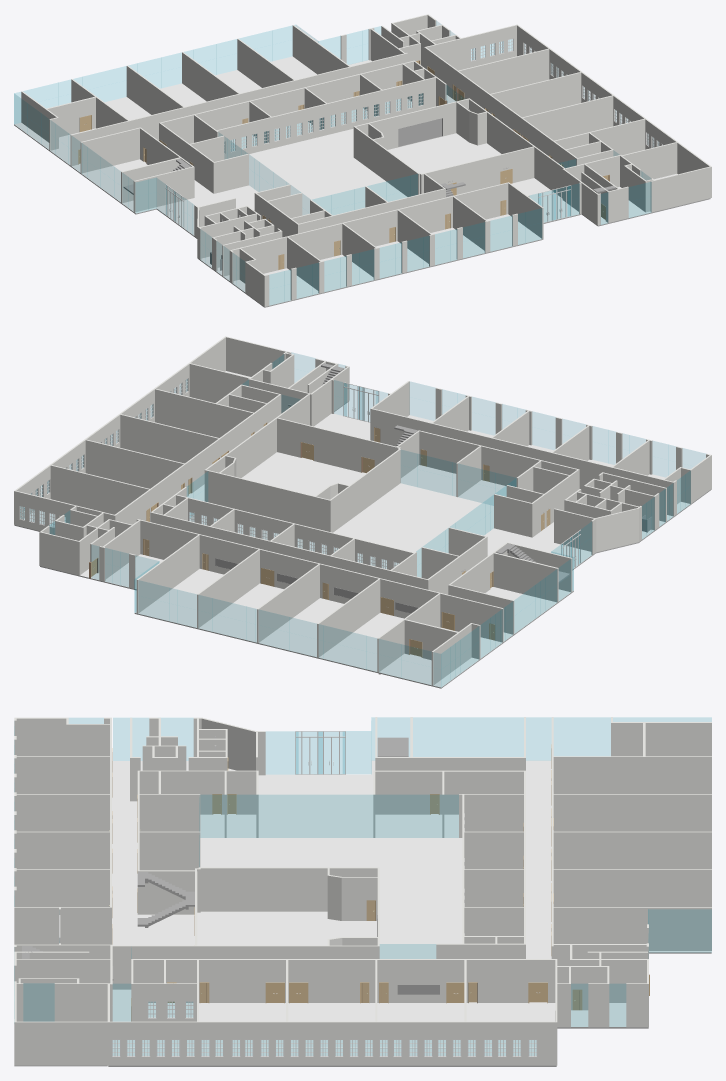
The model's file is 1楼墙体.gltf.
3 views of the same model, one above another, from view 1: azimuth 30°, elevation 25°; view 2: azimuth 150°, elevation 25°; view 3: azimuth 270°, elevation 25° (orthographic). The views are drawn at different scales.
Parts seen in each view (by area): view 1: 常规 140 - 20+120 [828984] (×2), 常规 - 200mm [791787], 常规 - 200mm [367109], 常规 - 200mm [432395], 常规 - 200mm [787339], 常规 - 200mm [435478], 常规 - 200mm [361772], 常规 - 200mm [360479], 常规 - 200mm [360535], 常规 - 200mm [360590], 常规 - 200mm [425923], 常规 - 200mm [362324] (+43 smaller); view 2: 常规 140 - 20+120 [828984] (×2), 常规 - 200mm [432395], 常规 - 200mm [362213], 常规 - 200mm [435478], 常规 - 200mm [787339], 常规 - 200mm [791787], 常规 - 200mm [361772], 常规 - 200mm [361418], 常规 - 200mm [367109], 常规 - 200mm [360590], 常规 - 200mm [360535], 常规 - 200mm [360479] (+46 smaller); view 3: 常规 140 - 20+120 [828984] (×2), 常规 - 200mm [787339], 常规 - 200mm [435478], 常规 - 200mm [356932], 常规 - 200mm [362324], 常规 - 200mm [356723], 常规 - 200mm [356034], 常规 - 200mm [356652], 常规 - 200mm [356786], 常规 - 200mm [366916], 常规 - 200mm [354483], 常规 - 200mm [353675] (+36 smaller).
Boxes of the visible parts, bbox=[...] form: 常规 140 - 20+120 [828984] (×2): bbox=[14, 56, 655, 307]; 常规 - 200mm [791787]: bbox=[217, 77, 435, 159]; 常规 - 200mm [367109]: bbox=[160, 60, 414, 143]; 常规 - 200mm [432395]: bbox=[70, 53, 407, 166]; 常规 - 200mm [787339]: bbox=[516, 24, 711, 197]; 常规 - 200mm [435478]: bbox=[425, 47, 578, 168]; 常规 - 200mm [361772]: bbox=[425, 146, 534, 194]; 常规 - 200mm [360479]: bbox=[522, 95, 613, 140]; 常规 - 200mm [360535]: bbox=[490, 72, 581, 117]; 常规 - 200mm [360590]: bbox=[458, 48, 549, 93]; 常规 - 200mm [425923]: bbox=[398, 182, 508, 232]; 常规 - 200mm [362324]: bbox=[354, 127, 418, 196]; 常规 140 - 20+120 [828984] (×2): bbox=[14, 401, 711, 688]; 常规 - 200mm [432395]: bbox=[136, 519, 503, 642]; 常规 - 200mm [362213]: bbox=[206, 470, 331, 532]; 常规 - 200mm [435478]: bbox=[115, 394, 281, 524]; 常规 - 200mm [787339]: bbox=[14, 336, 226, 524]; 常规 - 200mm [791787]: bbox=[176, 494, 413, 569]; 常规 - 200mm [361772]: bbox=[276, 417, 395, 472]; 常规 - 200mm [361418]: bbox=[418, 430, 579, 489]; 常规 - 200mm [367109]: bbox=[150, 512, 427, 589]; 常规 - 200mm [360590]: bbox=[50, 465, 149, 514]; 常规 - 200mm [360535]: bbox=[85, 439, 184, 488]; 常规 - 200mm [360479]: bbox=[120, 414, 218, 463]; 常规 140 - 20+120 [828984] (×2): bbox=[108, 760, 711, 1066]; 常规 - 200mm [787339]: bbox=[14, 1021, 557, 1065]; 常规 - 200mm [435478]: bbox=[131, 959, 555, 1002]; 常规 - 200mm [356932]: bbox=[553, 907, 711, 950]; 常规 - 200mm [362324]: bbox=[200, 867, 377, 911]; 常规 - 200mm [356723]: bbox=[553, 831, 711, 869]; 常规 - 200mm [356034]: bbox=[553, 756, 711, 793]; 常规 - 200mm [356652]: bbox=[553, 794, 711, 831]; 常规 - 200mm [356786]: bbox=[553, 869, 711, 906]; 常规 - 200mm [366916]: bbox=[375, 770, 525, 814]; 常规 - 200mm [354483]: bbox=[16, 831, 111, 869]; 常规 - 200mm [353675]: bbox=[14, 907, 111, 944].
Bounding box in the file's own units: 68.08 × 4.95 × 65.76.
